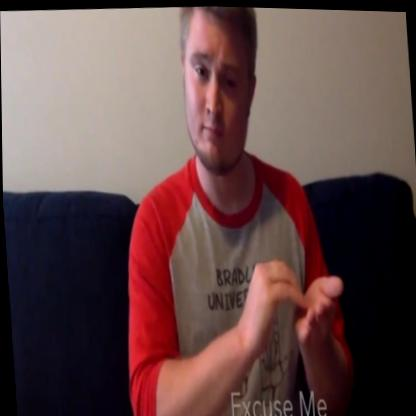ExcuseMe: (222, 227, 354, 374)
